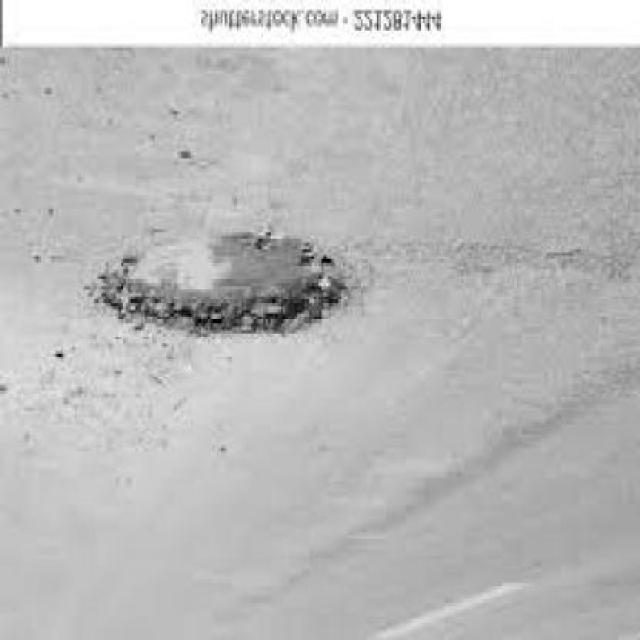pothole: (85, 229, 348, 351)
